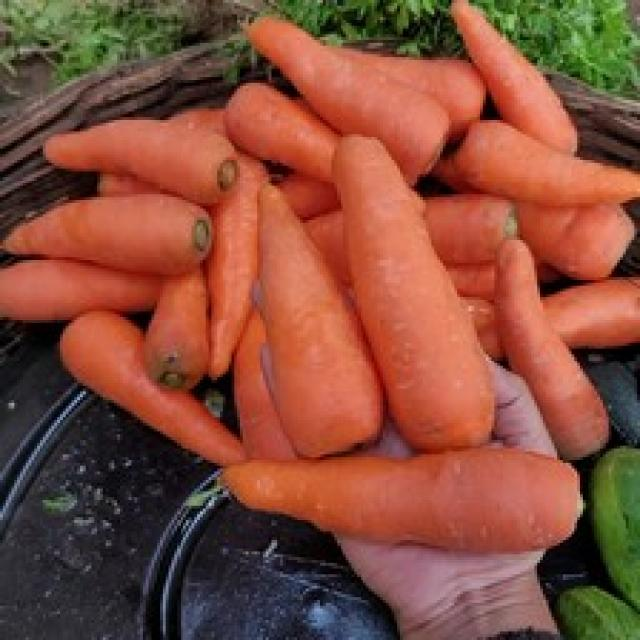Fresh_Carrot: (336, 135, 512, 466), (258, 178, 401, 454), (232, 456, 586, 548), (68, 314, 268, 462), (16, 193, 213, 271)
